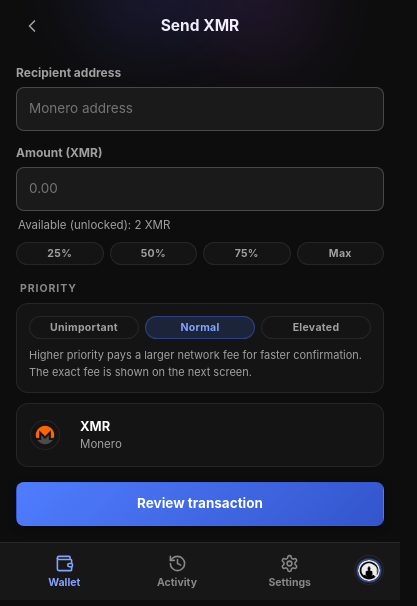
Test: LiveSendMonero › requires a recipient before building
This screenshot has width=417, height=606.
Click the button with test id "live-xmr-send-submit" at [200, 504], box left=16, top=482, right=384, bottom=526
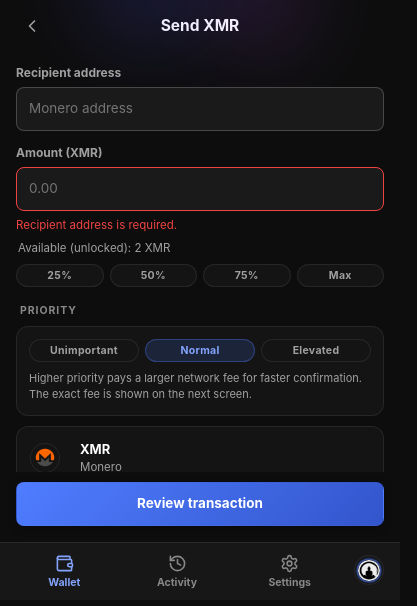
Expected: the text "Recipient address is required." is shown, left=16, top=218, right=177, bottom=232
